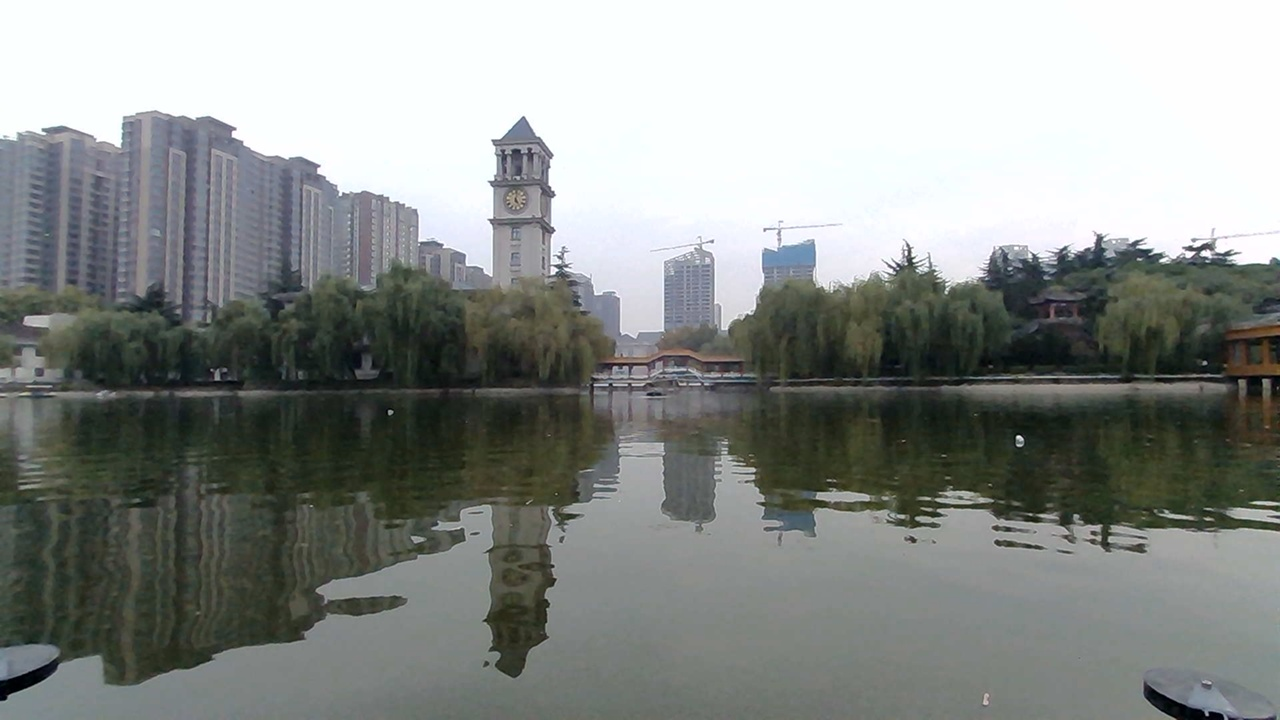bottle: (993, 425, 1043, 454)
